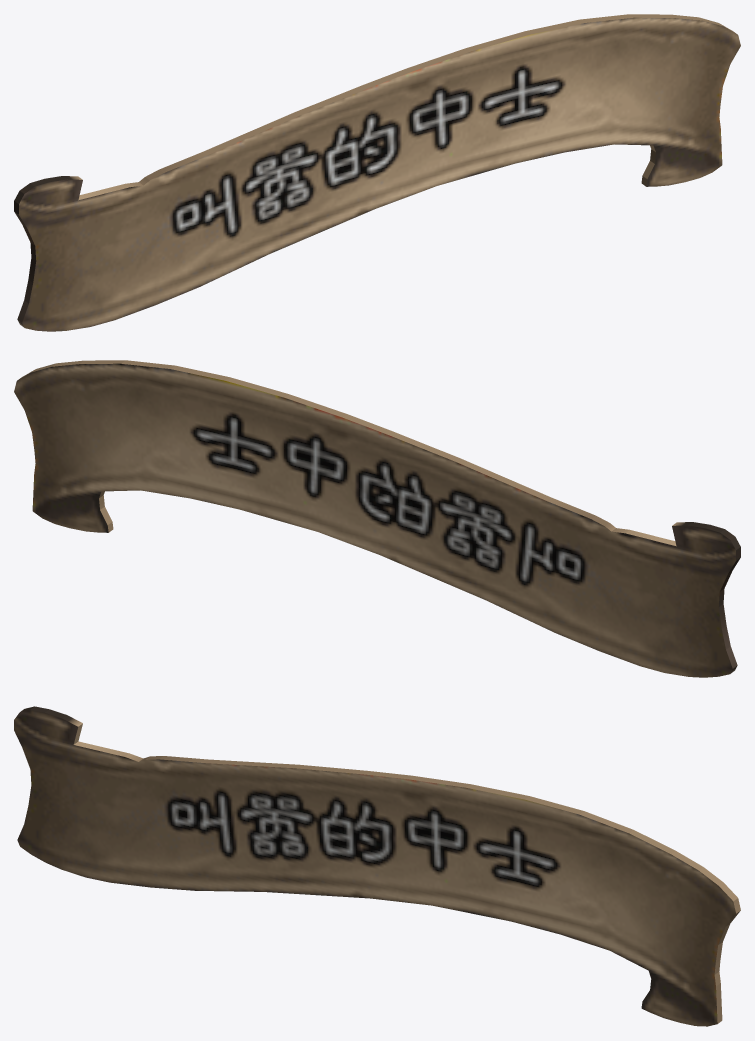
The model's file is NameTag_Played.glb.
3 renders of one model, top to bottom at view 1: azimuth 30°, elevation 25°; view 2: azimuth 150°, elevation 25°; view 3: azimuth 330°, elevation 25°, orthographic.
Visible parts, largest first — view 1: Circle; view 2: Circle; view 3: Circle.
Boxes of the visible parts, x1=… form: Circle: x1=14, y1=14, x2=740, y2=331; Circle: x1=14, y1=360, x2=740, y2=677; Circle: x1=14, y1=706, x2=740, y2=1026.
Bounding box in the file's own units: 6.48 × 1.59 × 0.075.
Materials: 1 (1 with a texture image).
